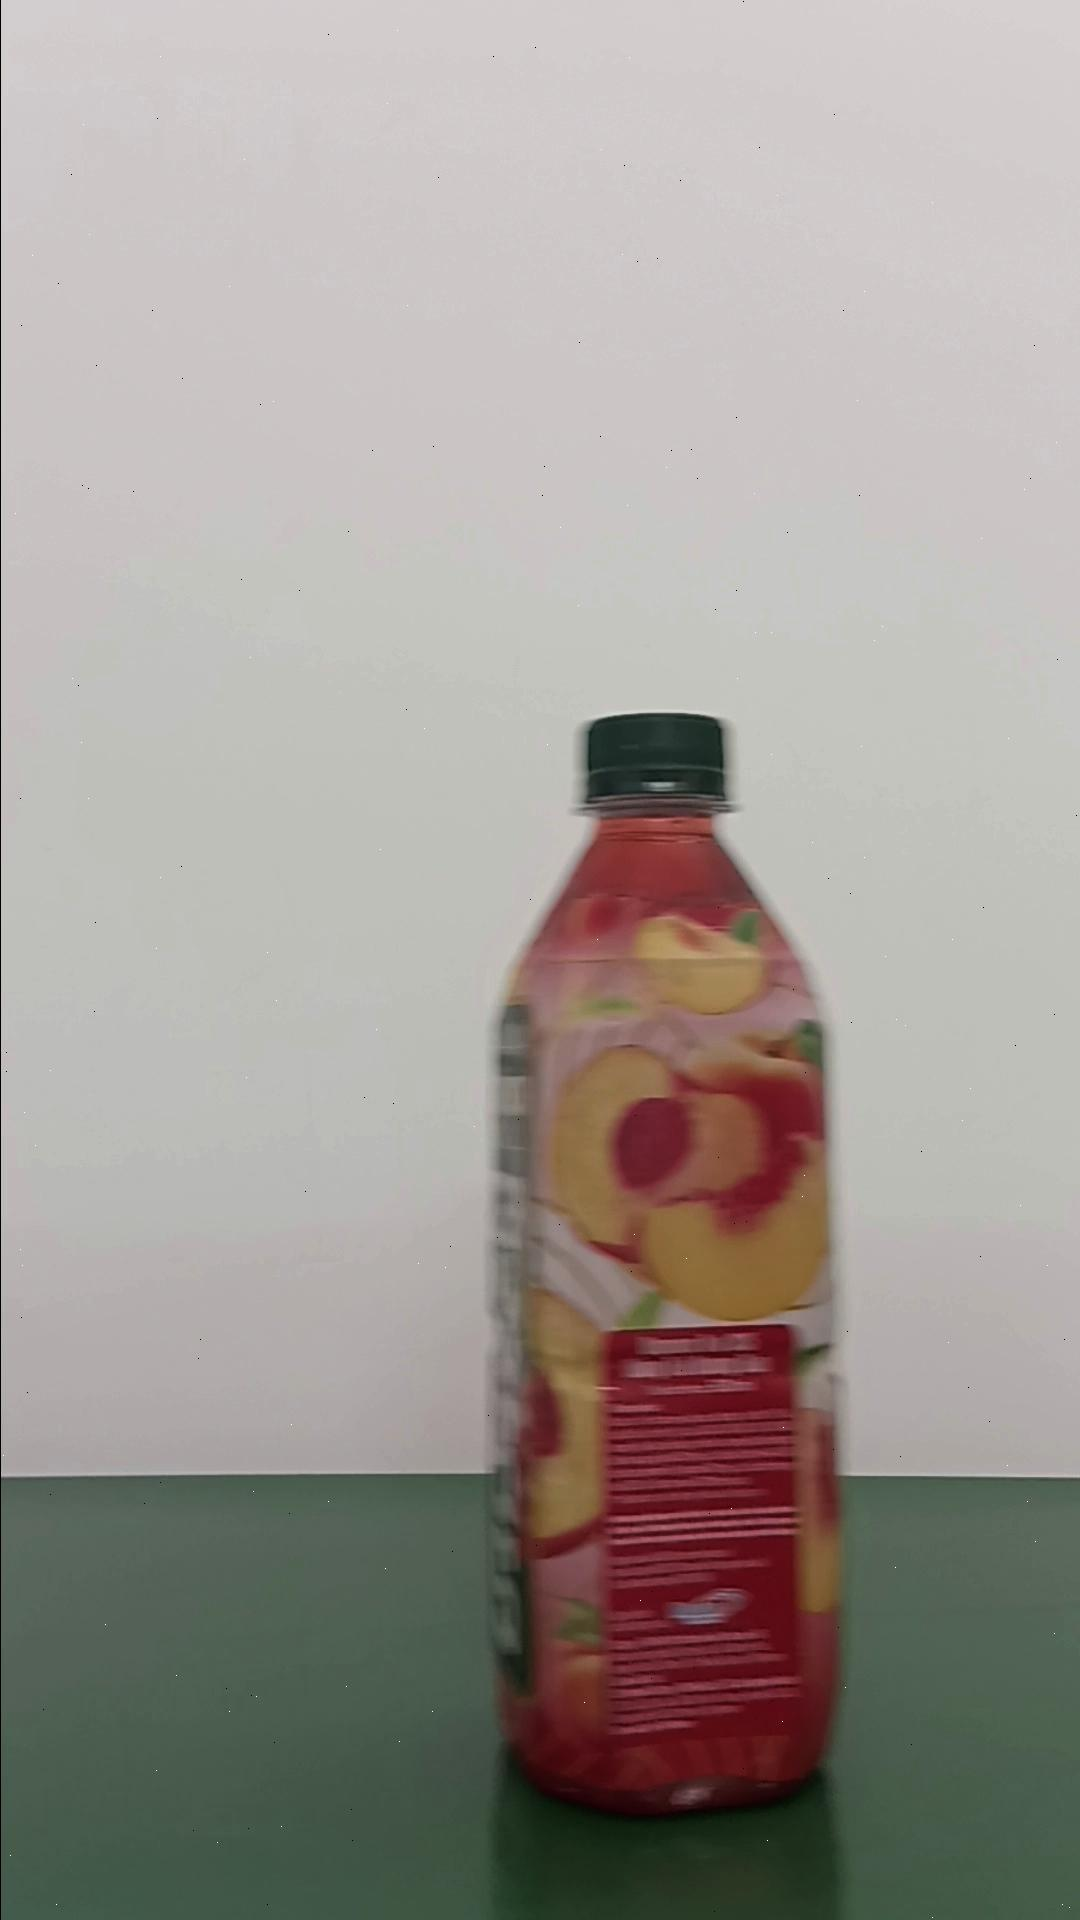khong loi: (479, 709, 847, 1817)
